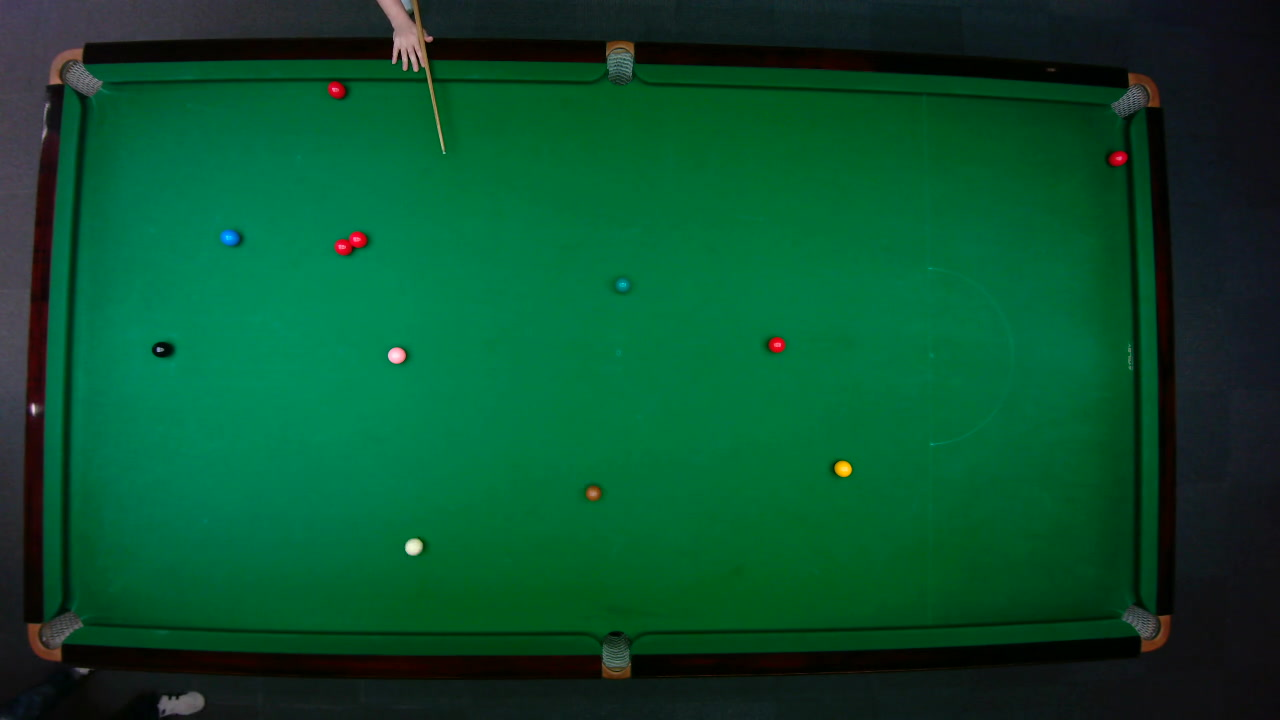bag: (25, 609, 84, 660), (47, 47, 103, 97), (1119, 603, 1171, 651), (1108, 72, 1160, 118), (601, 629, 630, 679), (605, 39, 633, 85)
black: (149, 340, 172, 358)
blue: (219, 228, 240, 246)
brown: (584, 483, 601, 501)
cue: (410, 0, 445, 156)
green: (613, 276, 631, 293)
pink: (386, 345, 406, 364)
red: (347, 229, 368, 248), (332, 237, 354, 255), (1106, 149, 1129, 166), (326, 79, 346, 98), (766, 335, 786, 353)
white: (403, 536, 424, 556)
yellow: (832, 459, 852, 477)
zone: (927, 266, 1013, 445)
